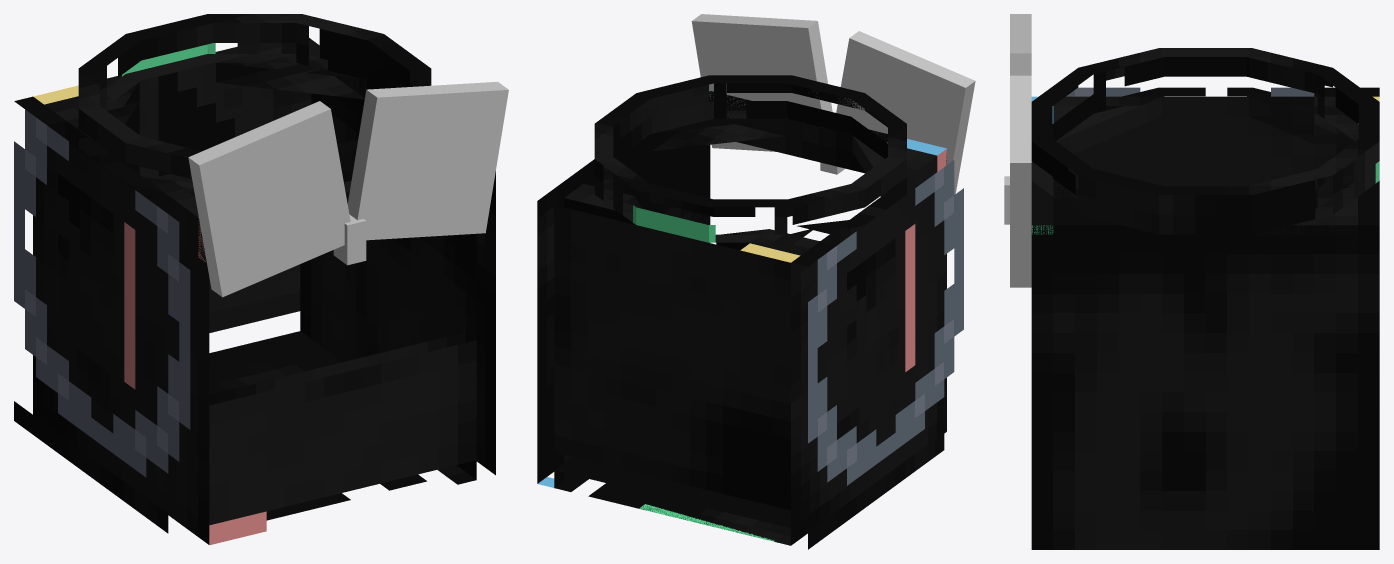
The model's file is steam_firebox_open.gltf.
3 views of the same model, side by side, from view 1: azimuth 30°, elevation 25°; view 2: azimuth 150°, elevation 25°; view 3: azimuth 270°, elevation 25° (orthographic). The views are drawn at different scales.
Visible parts, largest first — view 1: firebox, left_door (×2), door_hinge; view 2: firebox, left_door (×2); view 3: firebox, left_door (×2).
Part boxes in pixels (bbox=[...]): firebox: bbox=[14, 14, 495, 545]; left_door (×2): bbox=[188, 81, 508, 297]; door_hinge: bbox=[333, 214, 366, 265]; firebox: bbox=[537, 75, 963, 549]; left_door (×2): bbox=[691, 14, 975, 194]; firebox: bbox=[1031, 48, 1379, 549]; left_door (×2): bbox=[1010, 14, 1031, 287].
Bounding box in the file's own units: 10.14 × 13.06 × 10.78.
